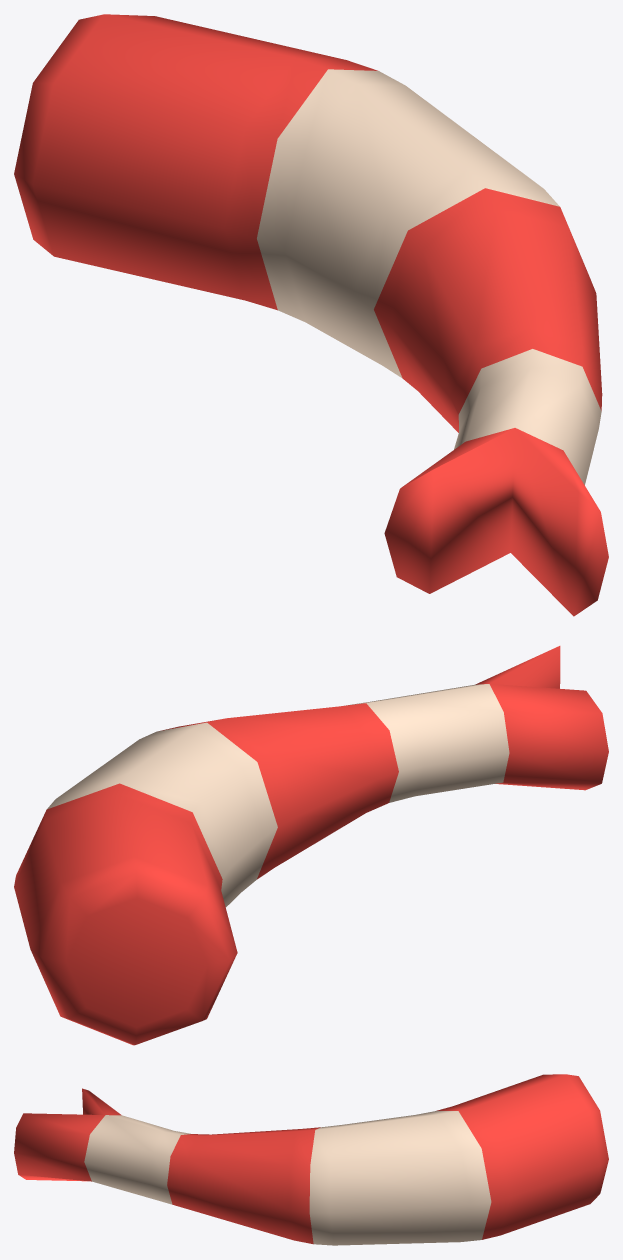
The model's file is Shrimps.fbx.
3 views of the same model, one above another, from view 1: azimuth 30°, elevation 25°; view 2: azimuth 150°, elevation 25°; view 3: azimuth 270°, elevation 25° (orthographic). The views are drawn at different scales.
Parts seen in each view (by area): view 1: Shrimps; view 2: Shrimps; view 3: Shrimps.
Part boxes in pixels (x1,y1,x2,y2): Shrimps: (14,14,608,616); Shrimps: (14,646,608,1045); Shrimps: (14,1074,608,1245).
Size of the model in its own units: 22.61 by 53.23 by 13.24.
